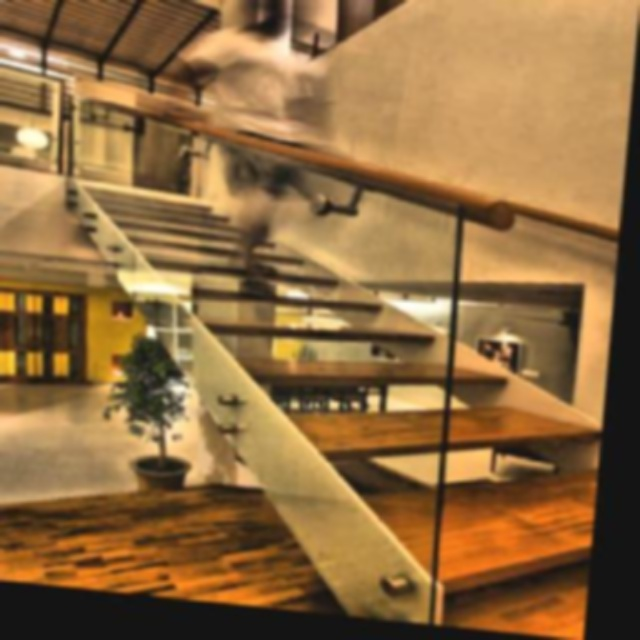stair: (194, 137, 628, 618)
